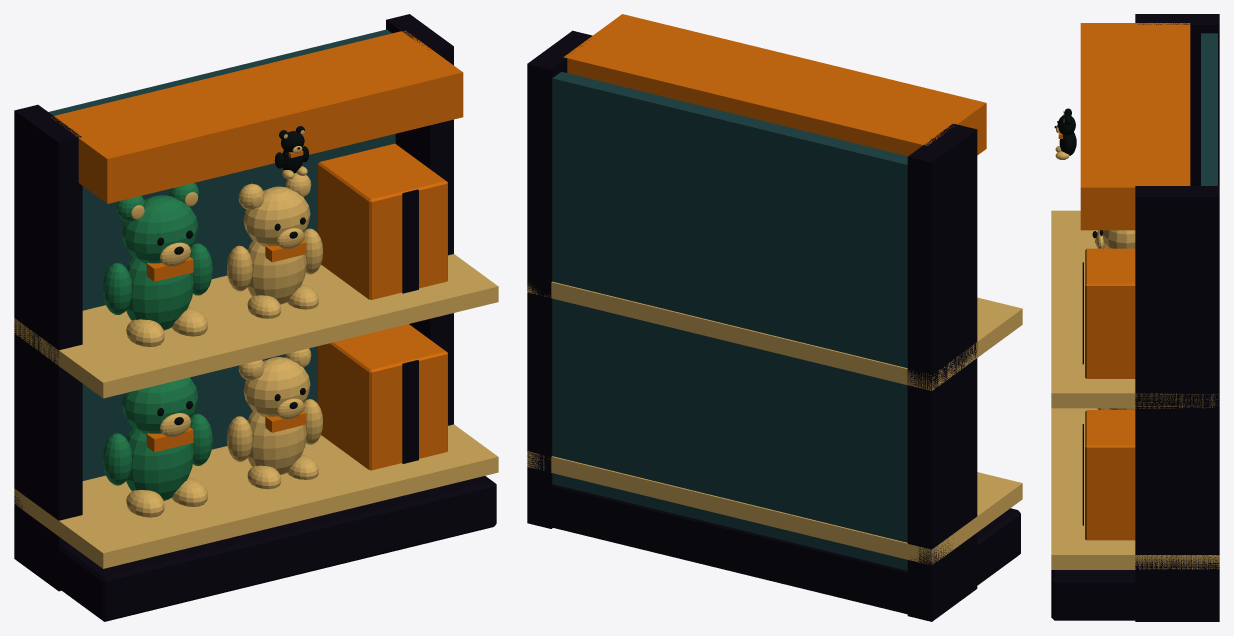
The model's file is mall_r5_gift_large.fbx.
3 views of the same model, side by side, from view 1: azimuth 30°, elevation 25°; view 2: azimuth 150°, elevation 25°; view 3: azimuth 270°, elevation 25° (orthographic). The views are drawn at different scales.
Visible parts, largest first — view 1: Part_4, Part_3, Part_2, Part_0, Part_-1, Part_1; view 2: Part_2, Part_0, Part_-1, Part_1, Part_3, Part_4; view 3: Part_1, Part_2, Part_4, Part_3, Part_-1, Part_0.
Boxes of the visible parts, left/top/right/bottom form: Part_4: left=59, top=72, right=498, bottom=398; Part_3: left=59, top=324, right=498, bottom=581; Part_2: left=15, top=14, right=462, bottom=480; Part_0: left=14, top=110, right=105, bottom=619; Part_-1: left=16, top=482, right=496, bottom=621; Part_1: left=386, top=20, right=496, bottom=485; Part_2: left=527, top=14, right=986, bottom=570; Part_0: left=907, top=130, right=1022, bottom=621; Part_-1: left=530, top=481, right=1019, bottom=616; Part_1: left=527, top=58, right=567, bottom=528; Part_3: left=551, top=456, right=1022, bottom=543; Part_4: left=552, top=281, right=1022, bottom=368; Part_1: left=1051, top=197, right=1219, bottom=621; Part_2: left=1080, top=14, right=1219, bottom=230; Part_4: left=1051, top=108, right=1135, bottom=393; Part_3: left=1051, top=408, right=1135, bottom=577; Part_-1: left=1051, top=570, right=1214, bottom=620; Part_0: left=1190, top=25, right=1219, bottom=185.
Bounding box in the file's own units: 5.4 × 5.86 × 2.1.
